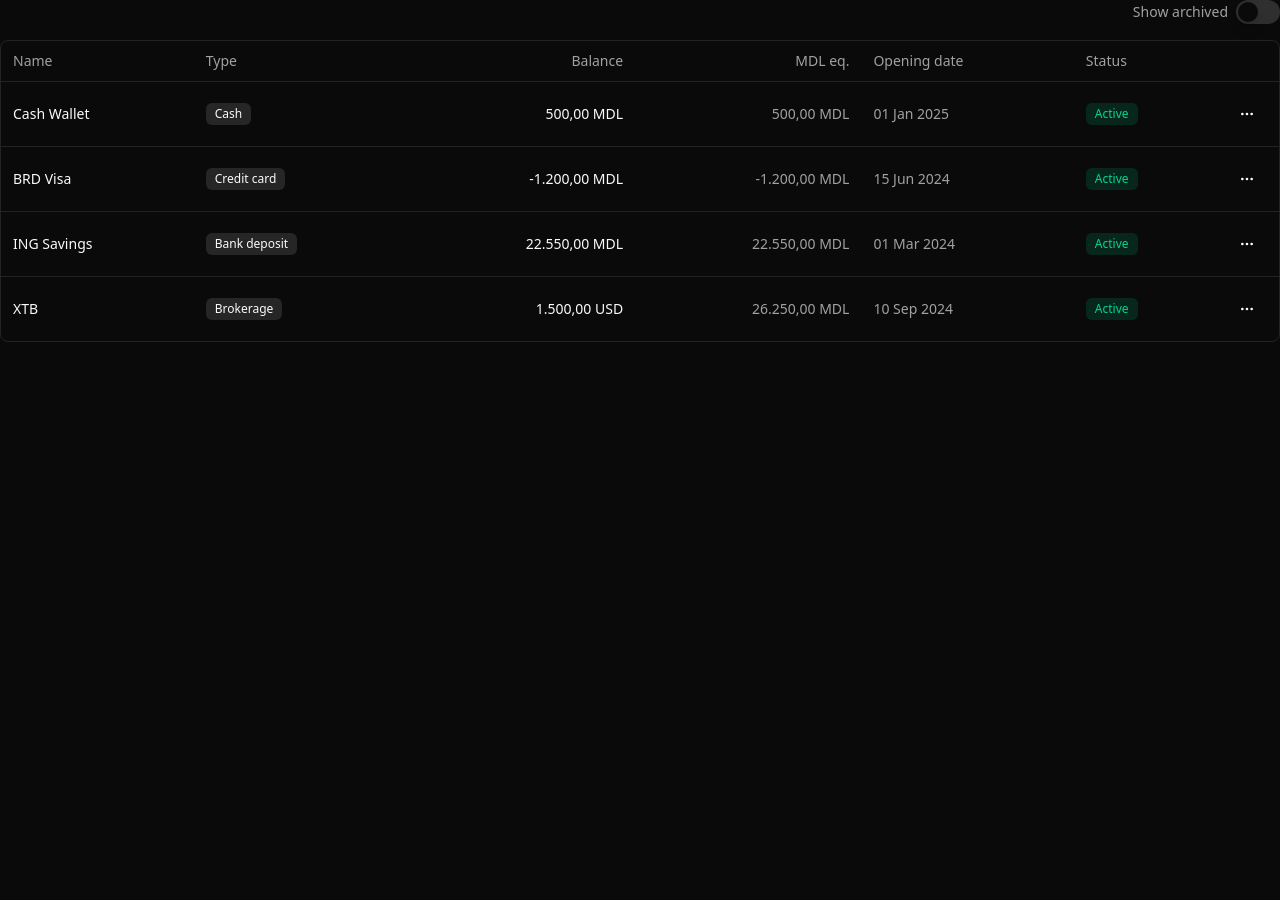
Test case: AccountsTable navigation › opens the Update-balance dialog from an adjustable row
Click the button with test id "account-actions": x=1247, y=308 [1227,288,1267,328]
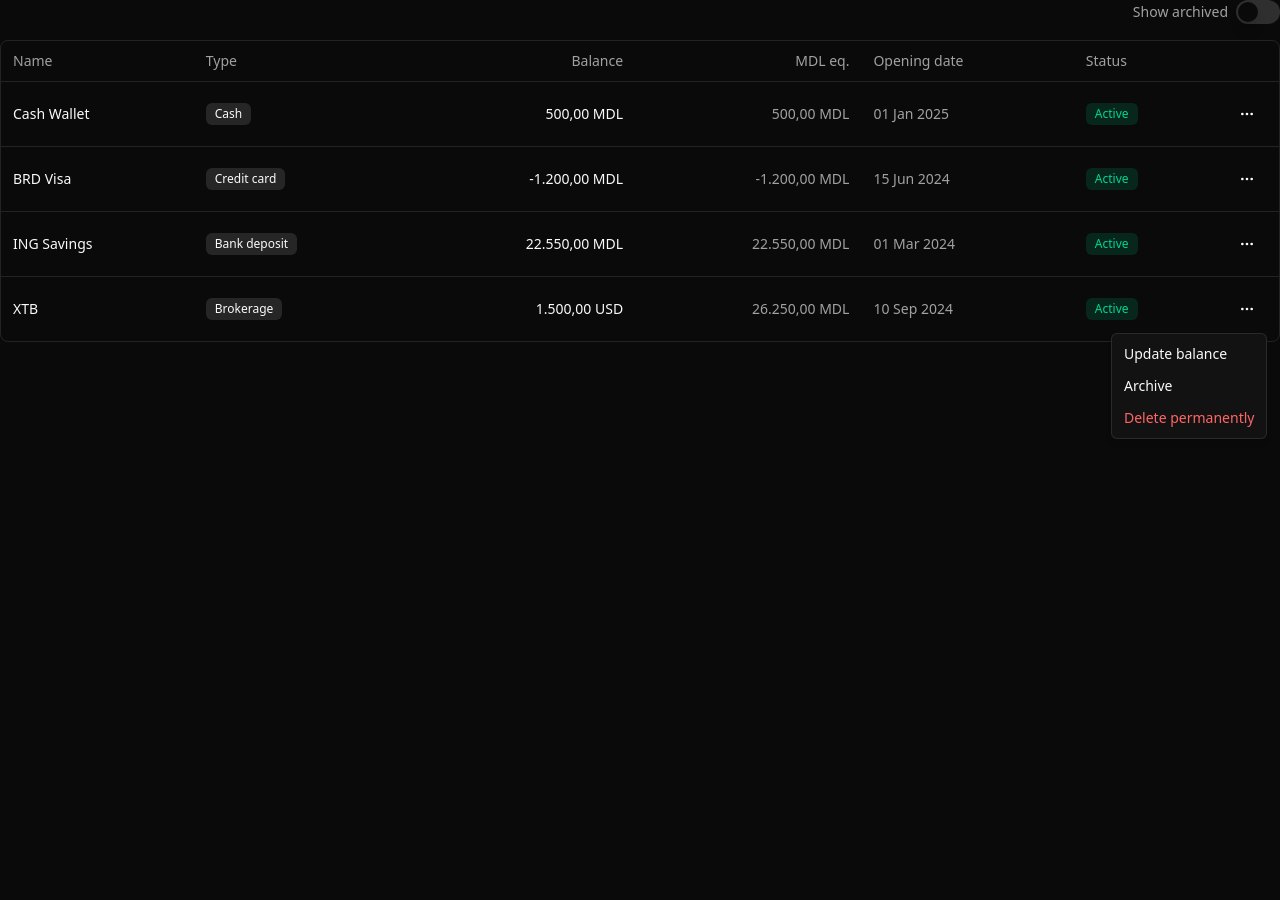
Click the menu item with test id "update-balance-action": x=1176, y=354 [1124,344,1227,363]
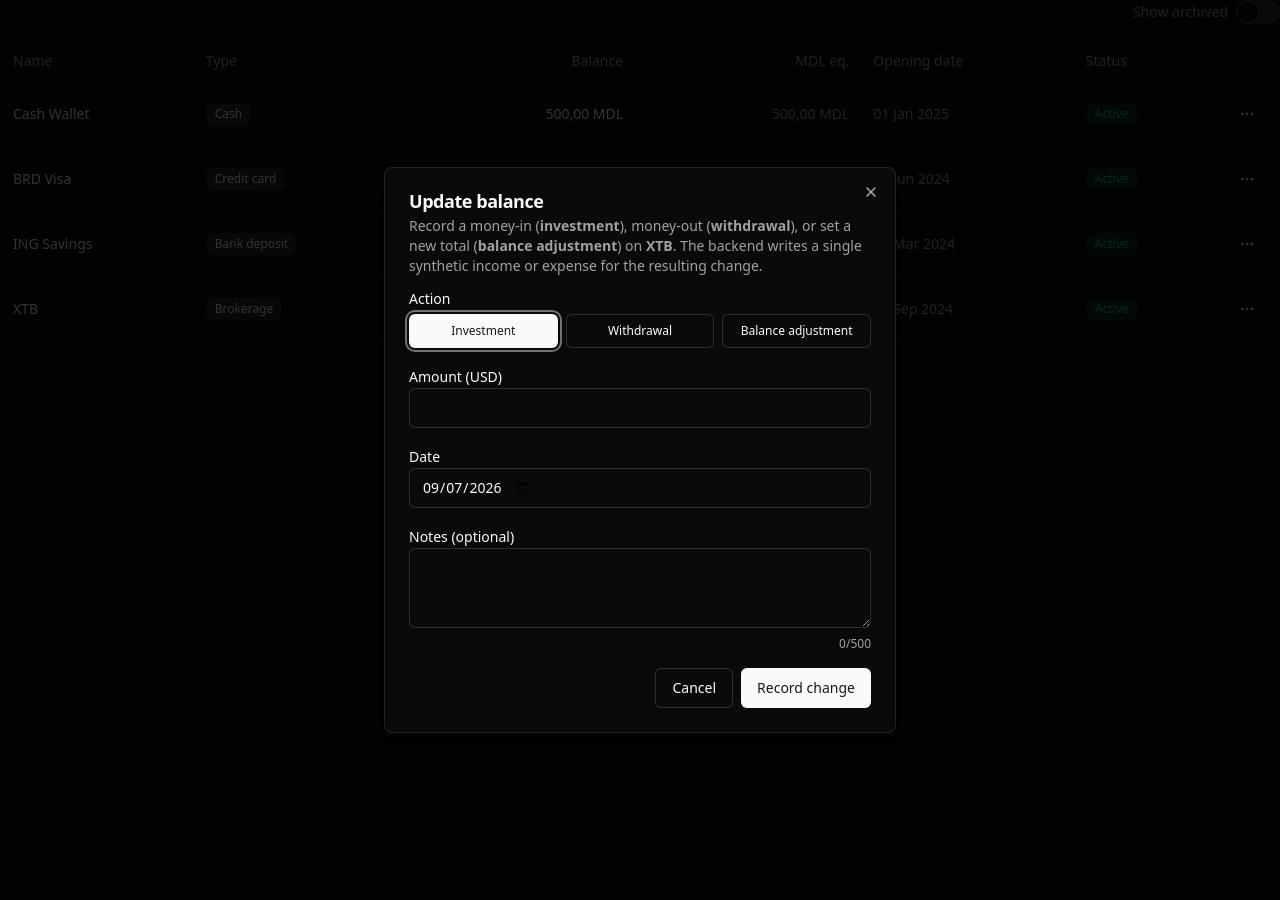
Check: the dialog is shown, box [384,167,896,733]
Press Escape
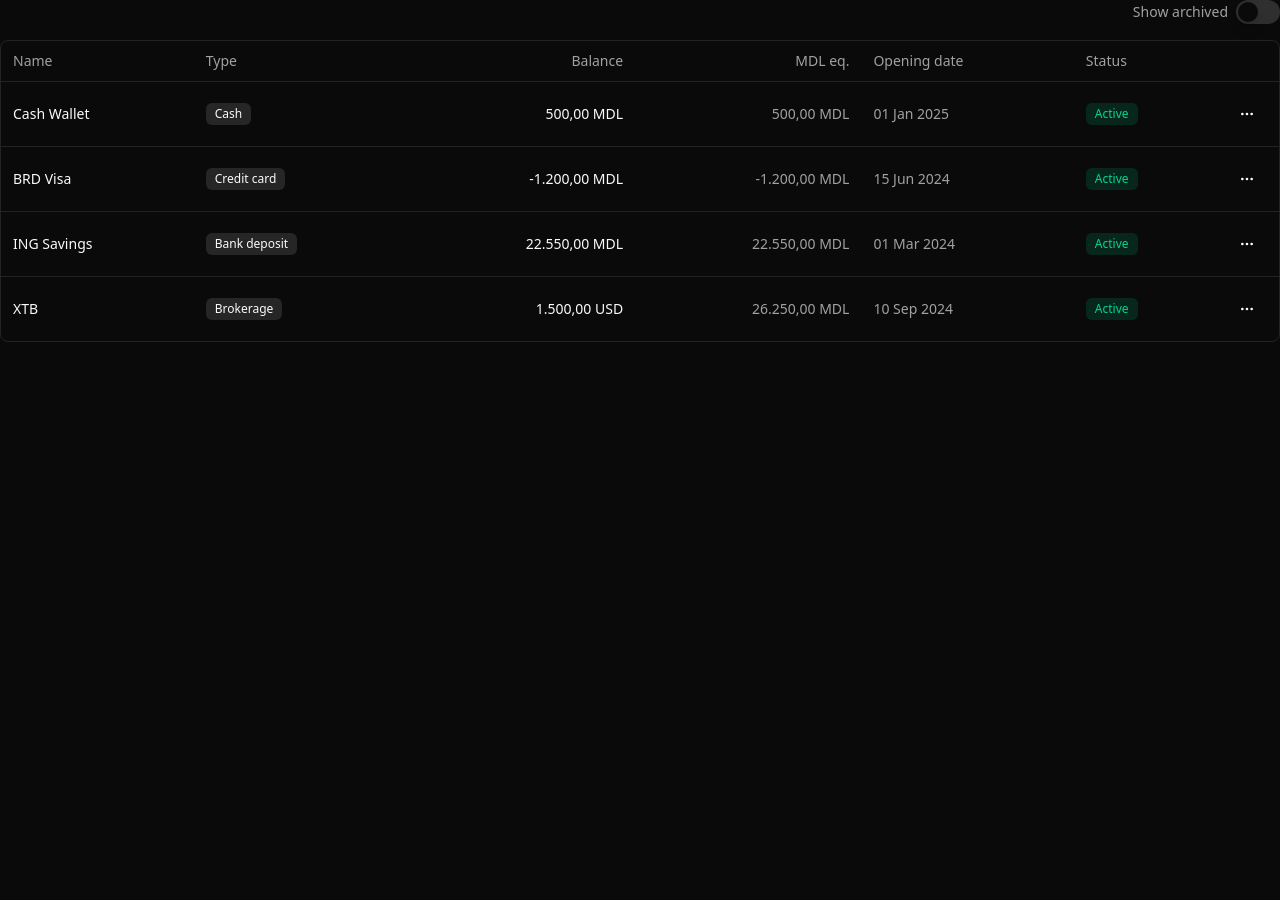
Check: the dialog is gone
